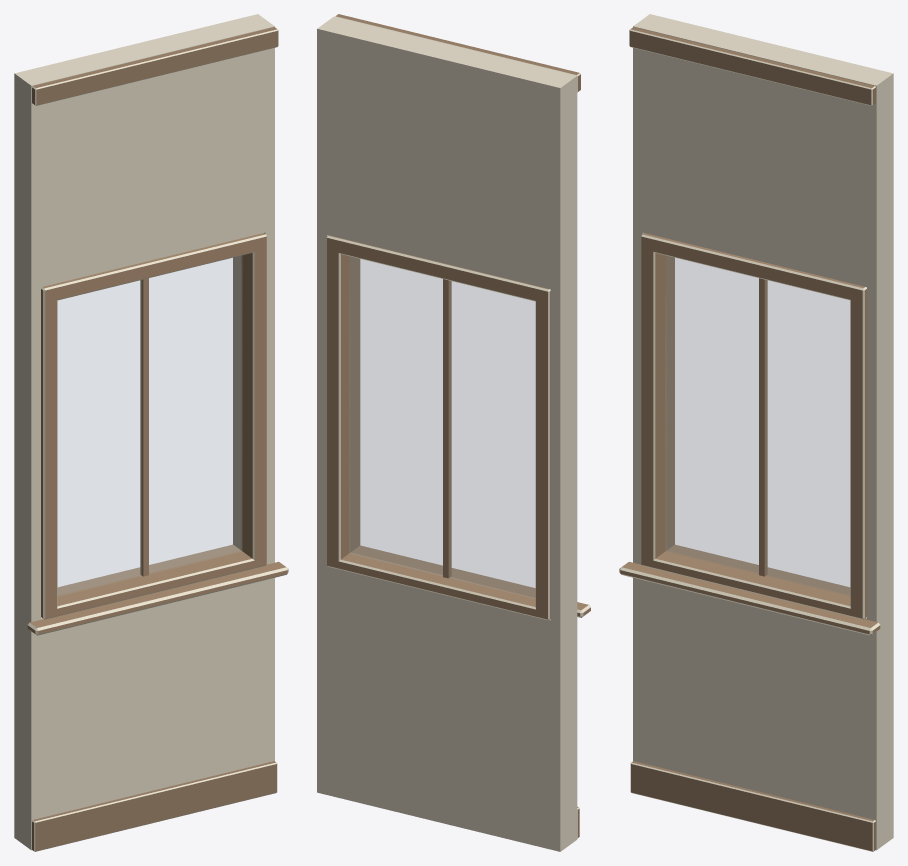
File: muro_ventana_300.glb
3 renders of one model, left to right at view 1: azimuth 30°, elevation 25°; view 2: azimuth 150°, elevation 25°; view 3: azimuth 330°, elevation 25°, orthographic.
Parts seen in each view (by area): view 1: muro_ventana_300; view 2: muro_ventana_300; view 3: muro_ventana_300.
Boxes of the visible parts, x1,y1,x2,y2 form: muro_ventana_300: [14, 14, 288, 851]; muro_ventana_300: [317, 14, 590, 851]; muro_ventana_300: [619, 14, 893, 851].
Bounding box in the file's own units: 1.04 × 3 × 0.2.
